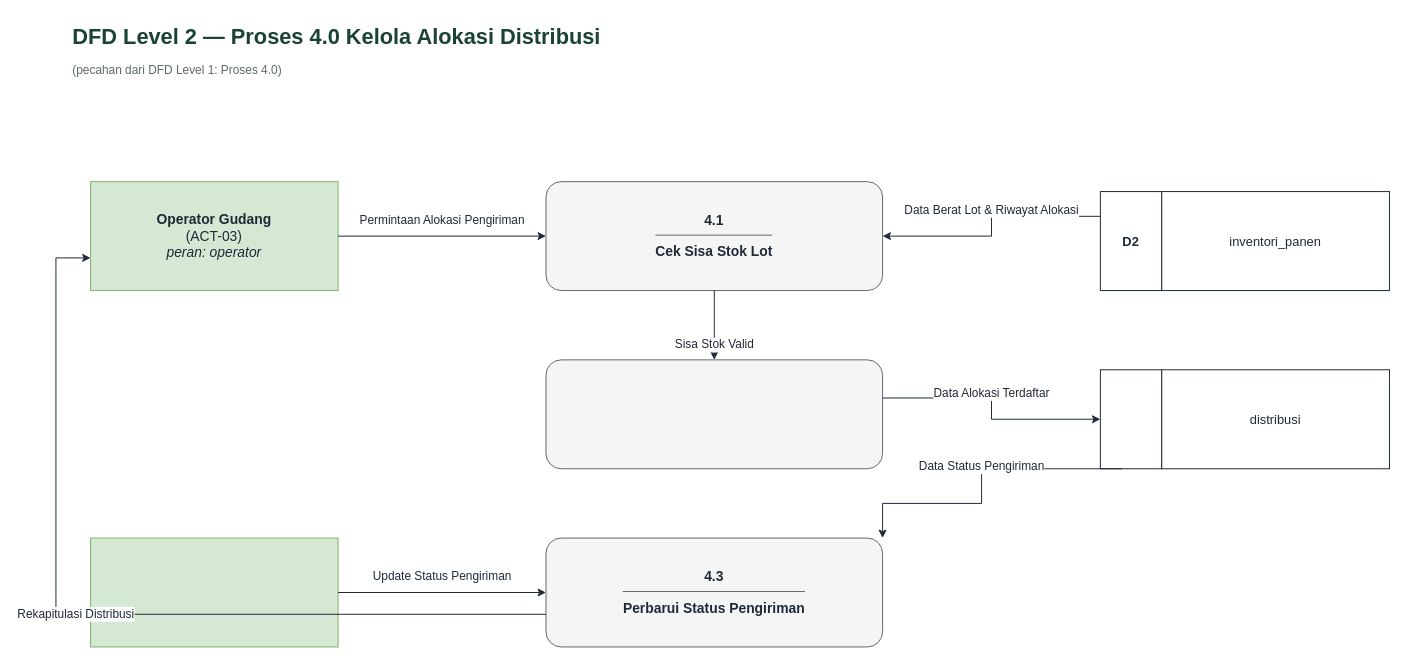
This 1407x664 diagram has some shape labels left out. The shapes that lost their labels are listed below. From the top down, each one's centre as x and y in pixels, then its label:
point 714,414: 4.2 Simpan Alokasi Pengiriman
point 1130,419: D3
point 214,592: Admin Gudang (ACT-01) peran: admin
